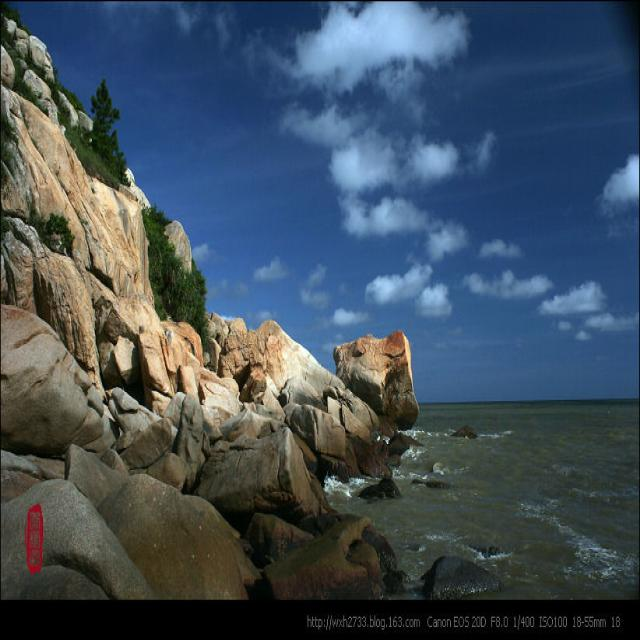reef: (152, 324, 519, 584)
